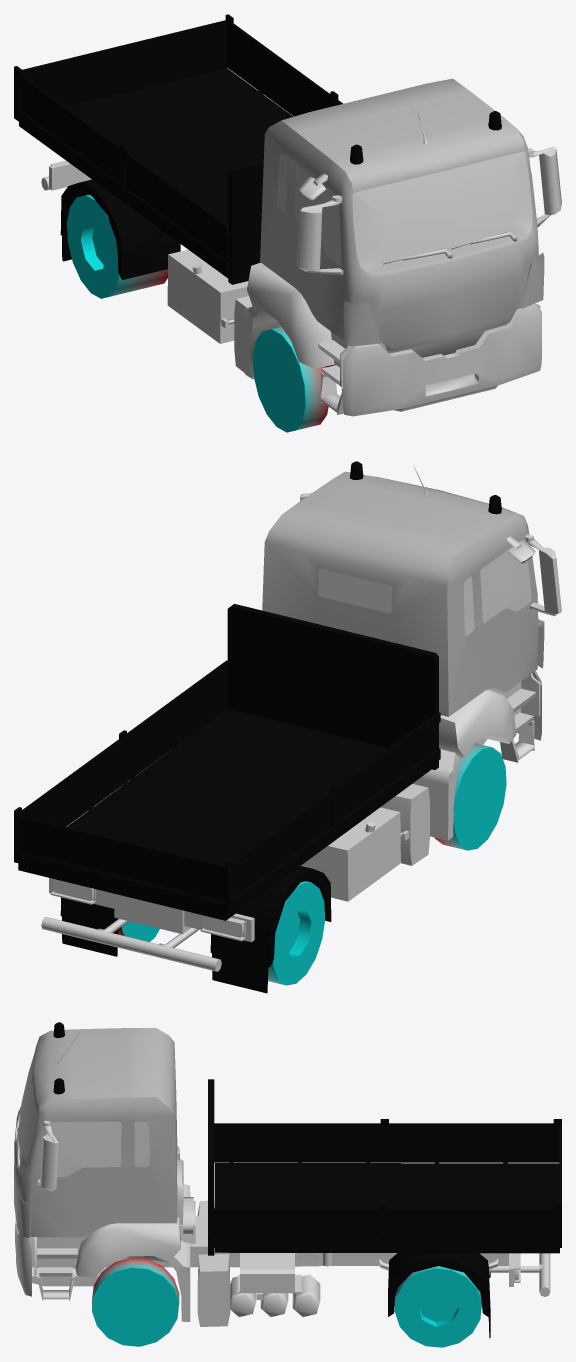
The model's file is LittleFlatbedTruck_IOS.fbx.
The picture shows the model from 3 angles, top to bottom: view 1: azimuth 30°, elevation 25°; view 2: azimuth 150°, elevation 25°; view 3: azimuth 270°, elevation 25°; orthographic projection. The views are drawn at different scales.
Parts seen in each view (by area): view 1: body, windows, wheels; view 2: body, wheels, windows; view 3: body, wheels, windows.
Boxes of the visible parts, x1,y1,x2,y2 form: body: (14, 14, 561, 416); windows: (277, 151, 532, 272); wheels: (67, 194, 328, 432); body: (14, 461, 561, 993); wheels: (118, 743, 506, 985); windows: (318, 539, 531, 635); body: (14, 1022, 561, 1338); wheels: (92, 1258, 481, 1347); windows: (16, 1053, 176, 1177).
Size of the model in its own units: 0.028 by 0.034 by 0.0611.
